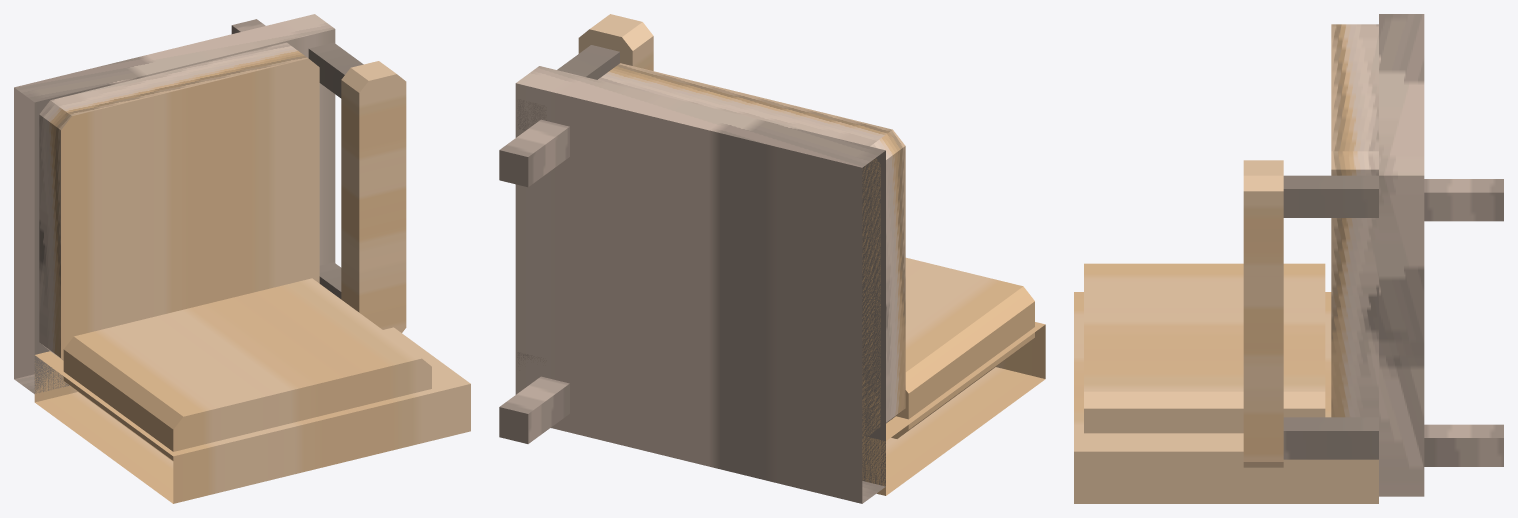
The model's file is pz_sofa_seating_indoor_03_victorian_c2_1_0.obj.
3 views of the same model, side by side, from view 1: azimuth 30°, elevation 25°; view 2: azimuth 150°, elevation 25°; view 3: azimuth 270°, elevation 25° (orthographic). The views are drawn at different scales.
Bounding box in the file's own units: 0.99 × 0.915 × 1.08.
Materials: 1 (1 with a texture image).
